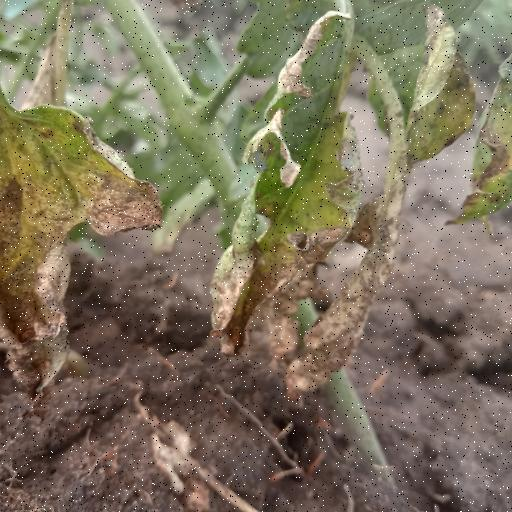Tomato_Brown_Spots: (210, 0, 414, 414), (0, 51, 172, 397)
